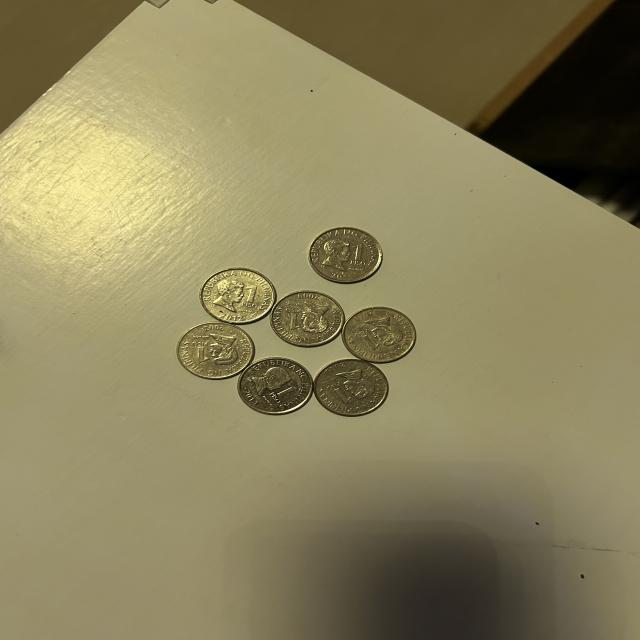1_Old_Front: (322, 379, 355, 408), (191, 340, 217, 370), (267, 384, 303, 405), (356, 327, 382, 356), (282, 304, 304, 334), (351, 239, 372, 270), (240, 283, 259, 312)
